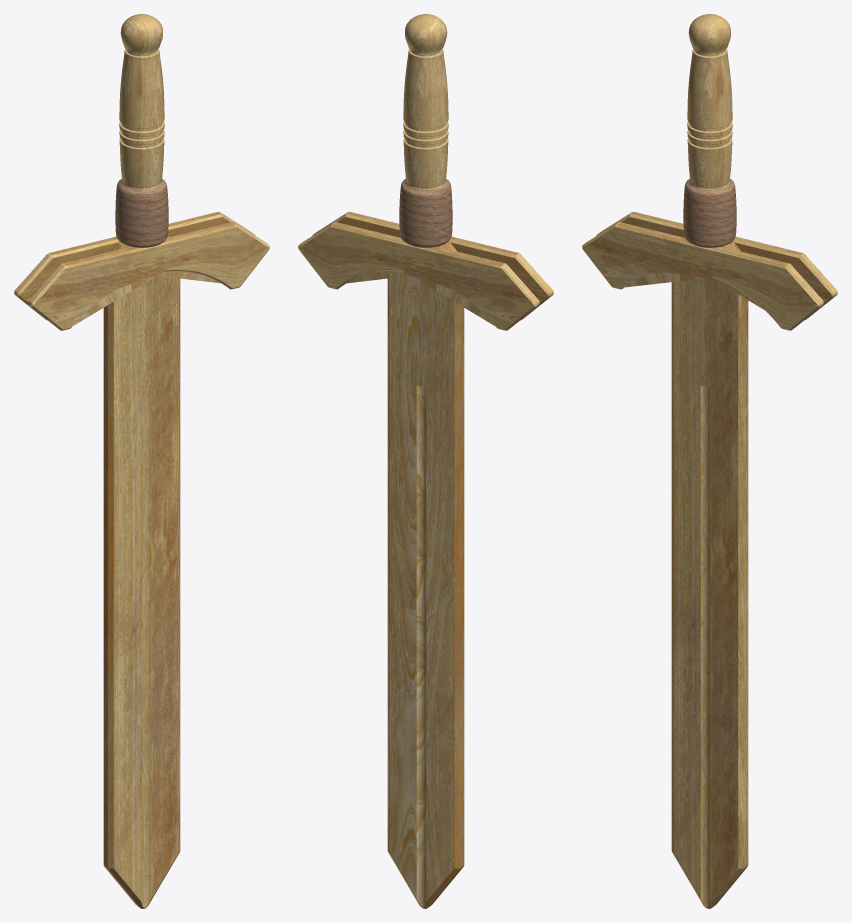
3 renders of one model, left to right at view 1: azimuth 30°, elevation 25°; view 2: azimuth 150°, elevation 25°; view 3: azimuth 330°, elevation 25°, orthographic.
Parts seen in each view (by area): view 1: Sword, Hand_Guard, Handle, Hand_Guard_2; view 2: Sword, Hand_Guard_2, Handle, Hand_Guard; view 3: Sword, Hand_Guard, Handle, Hand_Guard_2.
Part boxes in pixels (x1,y1,x2,y2): Sword: (103,236,180,908); Hand_Guard: (28,222,269,330); Handle: (115,14,168,247); Hand_Guard_2: (14,211,255,320); Sword: (387,236,464,908); Hand_Guard_2: (298,222,539,330); Handle: (399,14,452,247); Hand_Guard: (312,211,553,320); Sword: (671,236,748,908); Hand_Guard: (582,222,823,330); Handle: (683,14,736,247); Hand_Guard_2: (596,211,837,320).
Bounding box in the file's own units: 12.81 × 45.72 × 2.48.
5 materials, 5 textured.
